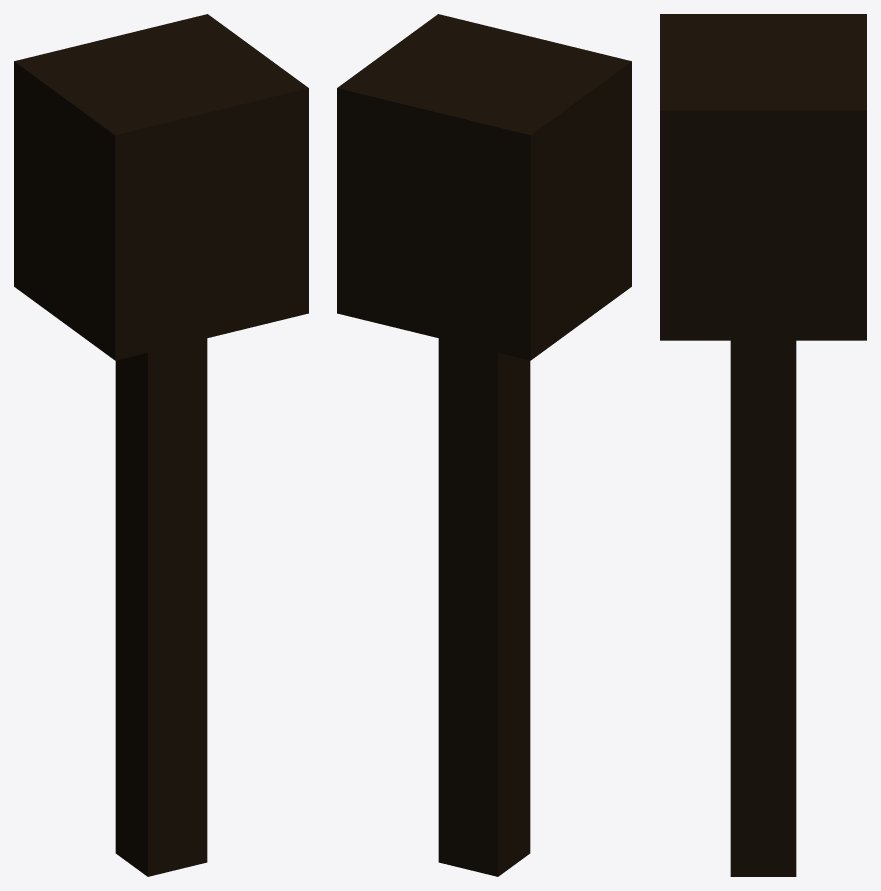
File: Piquet.FBX
The picture shows the model from 3 angles, left to right: view 1: azimuth 30°, elevation 25°; view 2: azimuth 150°, elevation 25°; view 3: azimuth 270°, elevation 25°; orthographic projection. The views are drawn at different scales.
Visible parts, largest first — view 1: Piquet; view 2: Piquet; view 3: Piquet.
Boxes of the visible parts, box(x1,y1,x2,y2) form: Piquet: box(14, 14, 308, 876); Piquet: box(337, 14, 631, 876); Piquet: box(660, 14, 866, 876).
Size of the model in its own units: 3.79 by 14.66 by 3.43.
